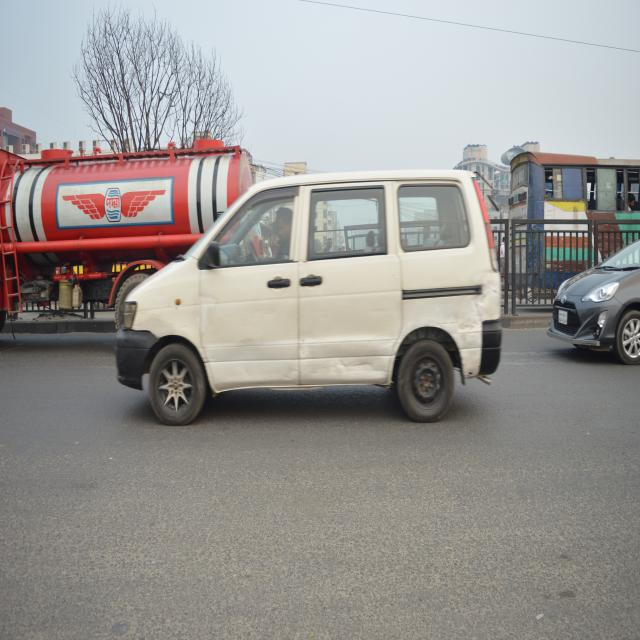bus: (505, 148, 640, 272)
car: (545, 242, 640, 362)
microbus: (128, 167, 510, 419)
truck: (0, 140, 252, 306)
